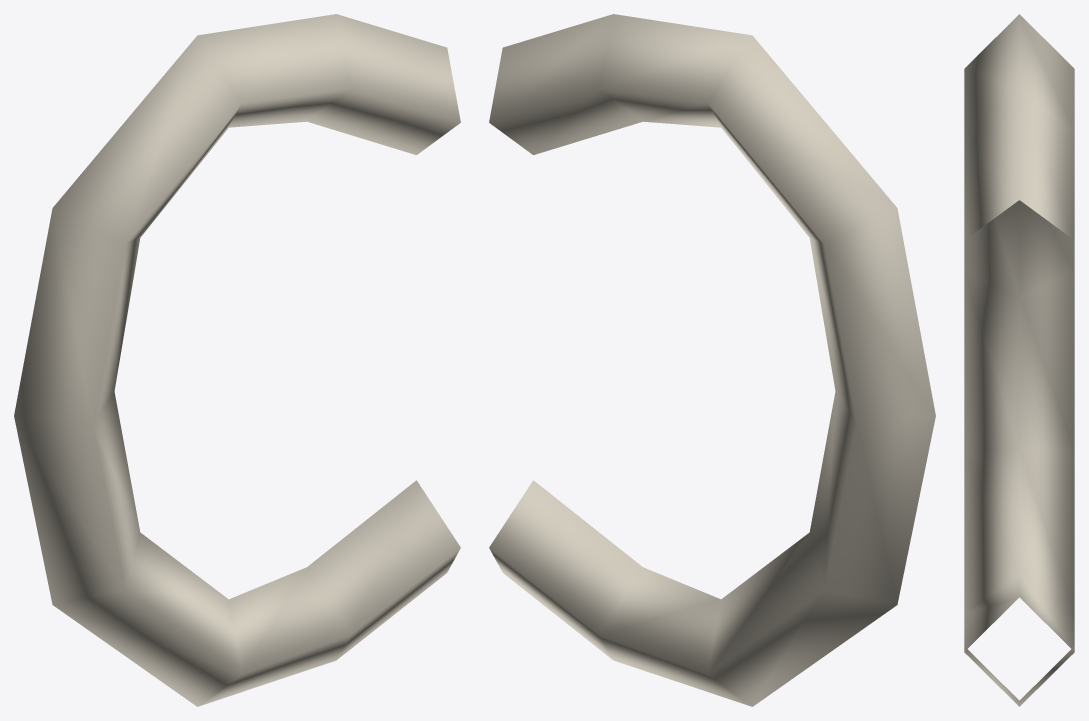
Rendered from moon.glb.
The picture shows the model from 3 angles, left to right: view 1: azimuth 30°, elevation 25°; view 2: azimuth 150°, elevation 25°; view 3: azimuth 270°, elevation 25°; orthographic projection. The views are drawn at different scales.
Visible parts, largest first — view 1: moon; view 2: moon; view 3: moon.
Part boxes in pixels (x1,y1,x2,y2): moon: [14, 14, 460, 706]; moon: [489, 14, 935, 706]; moon: [964, 14, 1074, 706].
Size of the model in its own units: 0.2716 by 0.4022 by 0.063.
